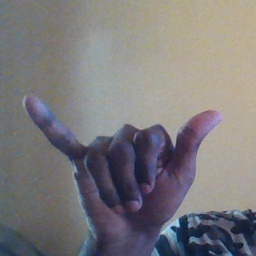J: (22, 90, 222, 231)
